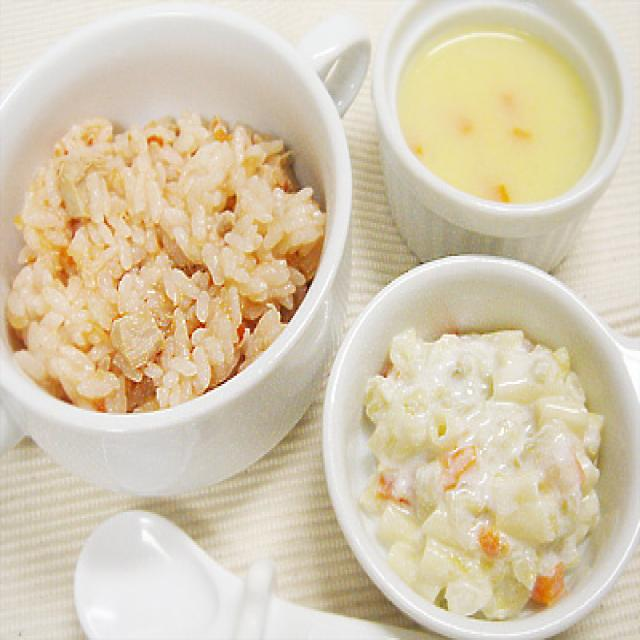汤锅炖物: (371, 0, 640, 229)
米饭主食: (0, 0, 355, 438)
蔬菜料理: (312, 243, 640, 640)
